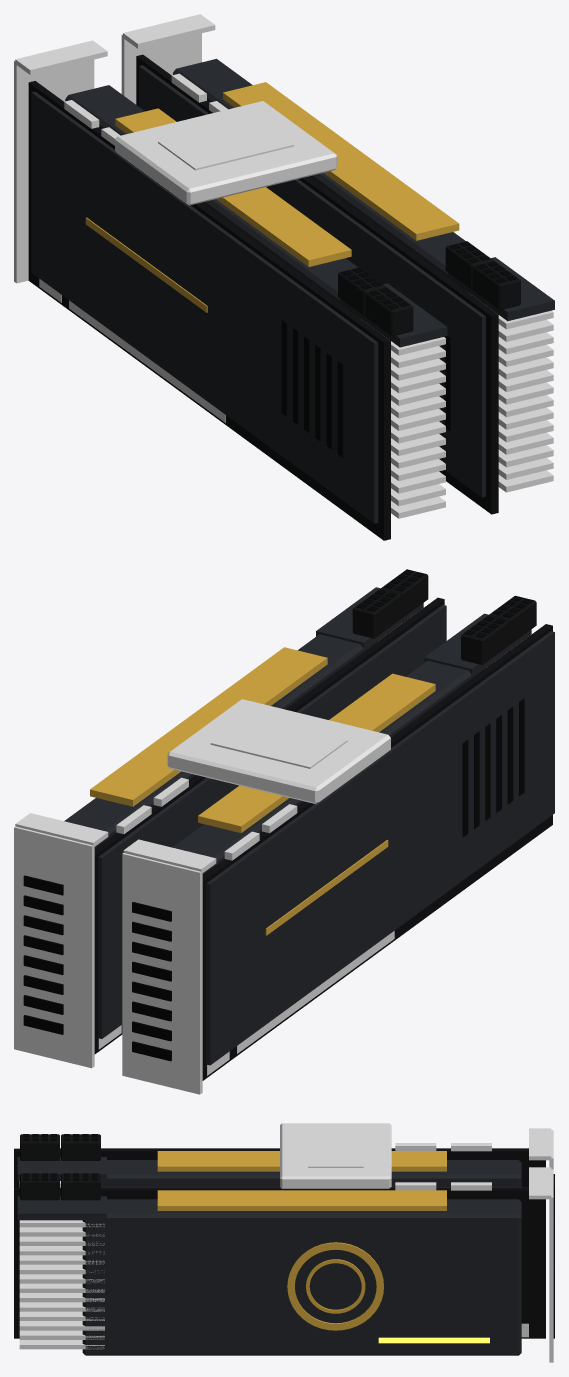
The model's file is hw_gpu_h200_dual.glb.
3 renders of one model, top to bottom at view 1: azimuth 30°, elevation 25°; view 2: azimuth 150°, elevation 25°; view 3: azimuth 270°, elevation 25°, orthographic. The views are drawn at different scales.
Parts seen in each view (by area): view 1: Body; view 2: Body; view 3: Body.
Boxes of the visible parts, <box> form: Body: <box>14,14,554,540</box>; Body: <box>14,569,554,1094</box>; Body: <box>14,1123,554,1362</box>.
Size of the model in its own units: 0.0901 by 0.1015 by 0.2909.
